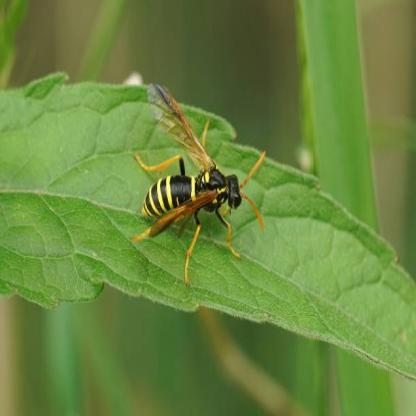sawfly: (126, 71, 269, 288)
